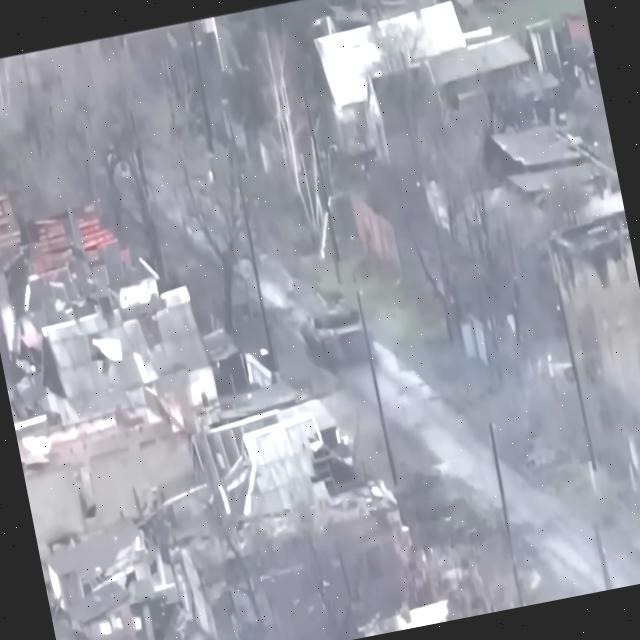MBT: (292, 281, 380, 380)
